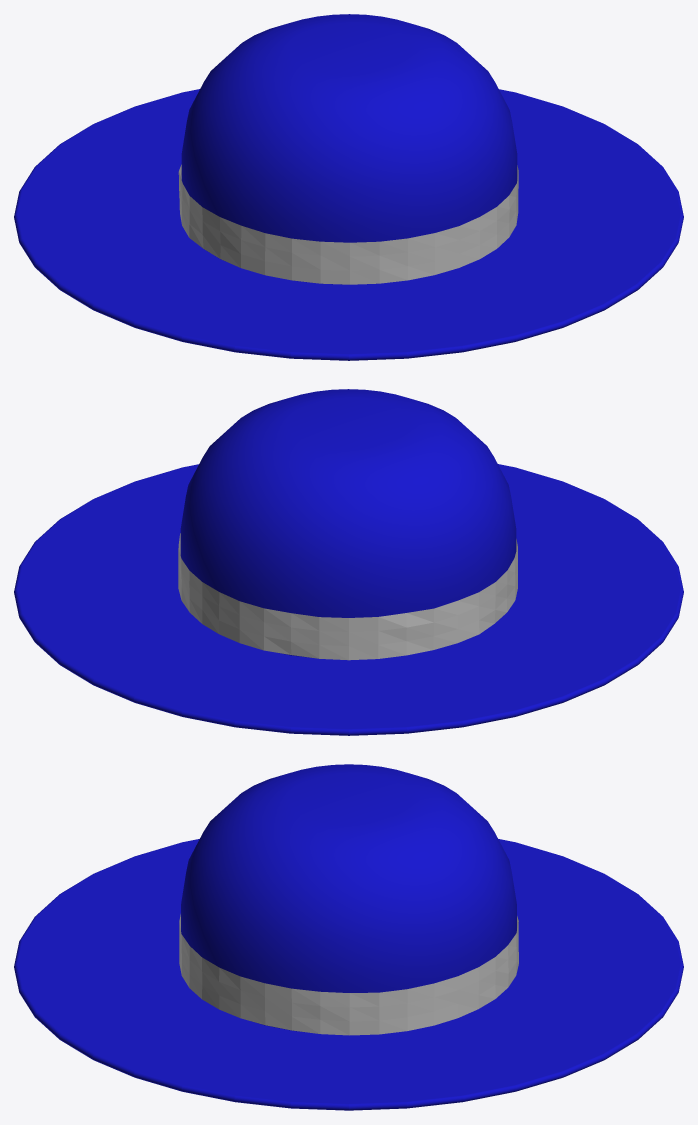
File: SummerHat.fbx
3 renders of one model, top to bottom at view 1: azimuth 30°, elevation 25°; view 2: azimuth 150°, elevation 25°; view 3: azimuth 270°, elevation 25°, orthographic.
Visible parts, largest first — view 1: Base, Cylinder_1, ribon; view 2: Base, Cylinder_1, ribon; view 3: Base, Cylinder_1, ribon.
Boxes of the visible parts, box(x1,y1,x2,y2) form: Base: box(14, 89, 683, 360); Cylinder_1: box(181, 14, 517, 284); ribon: box(178, 164, 518, 284); Base: box(14, 464, 683, 735); Cylinder_1: box(180, 389, 516, 657); ribon: box(178, 533, 517, 660); Base: box(14, 839, 683, 1110); Cylinder_1: box(181, 764, 516, 1031); ribon: box(179, 914, 518, 1035).
Size of the model in its own units: 1400 by 395 by 1400.
